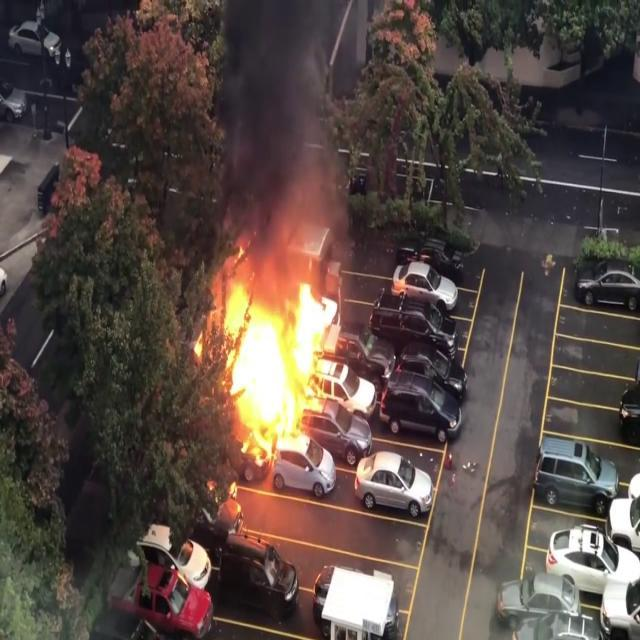Fire: (203, 270, 351, 462)
Smoke: (199, 0, 357, 274)
